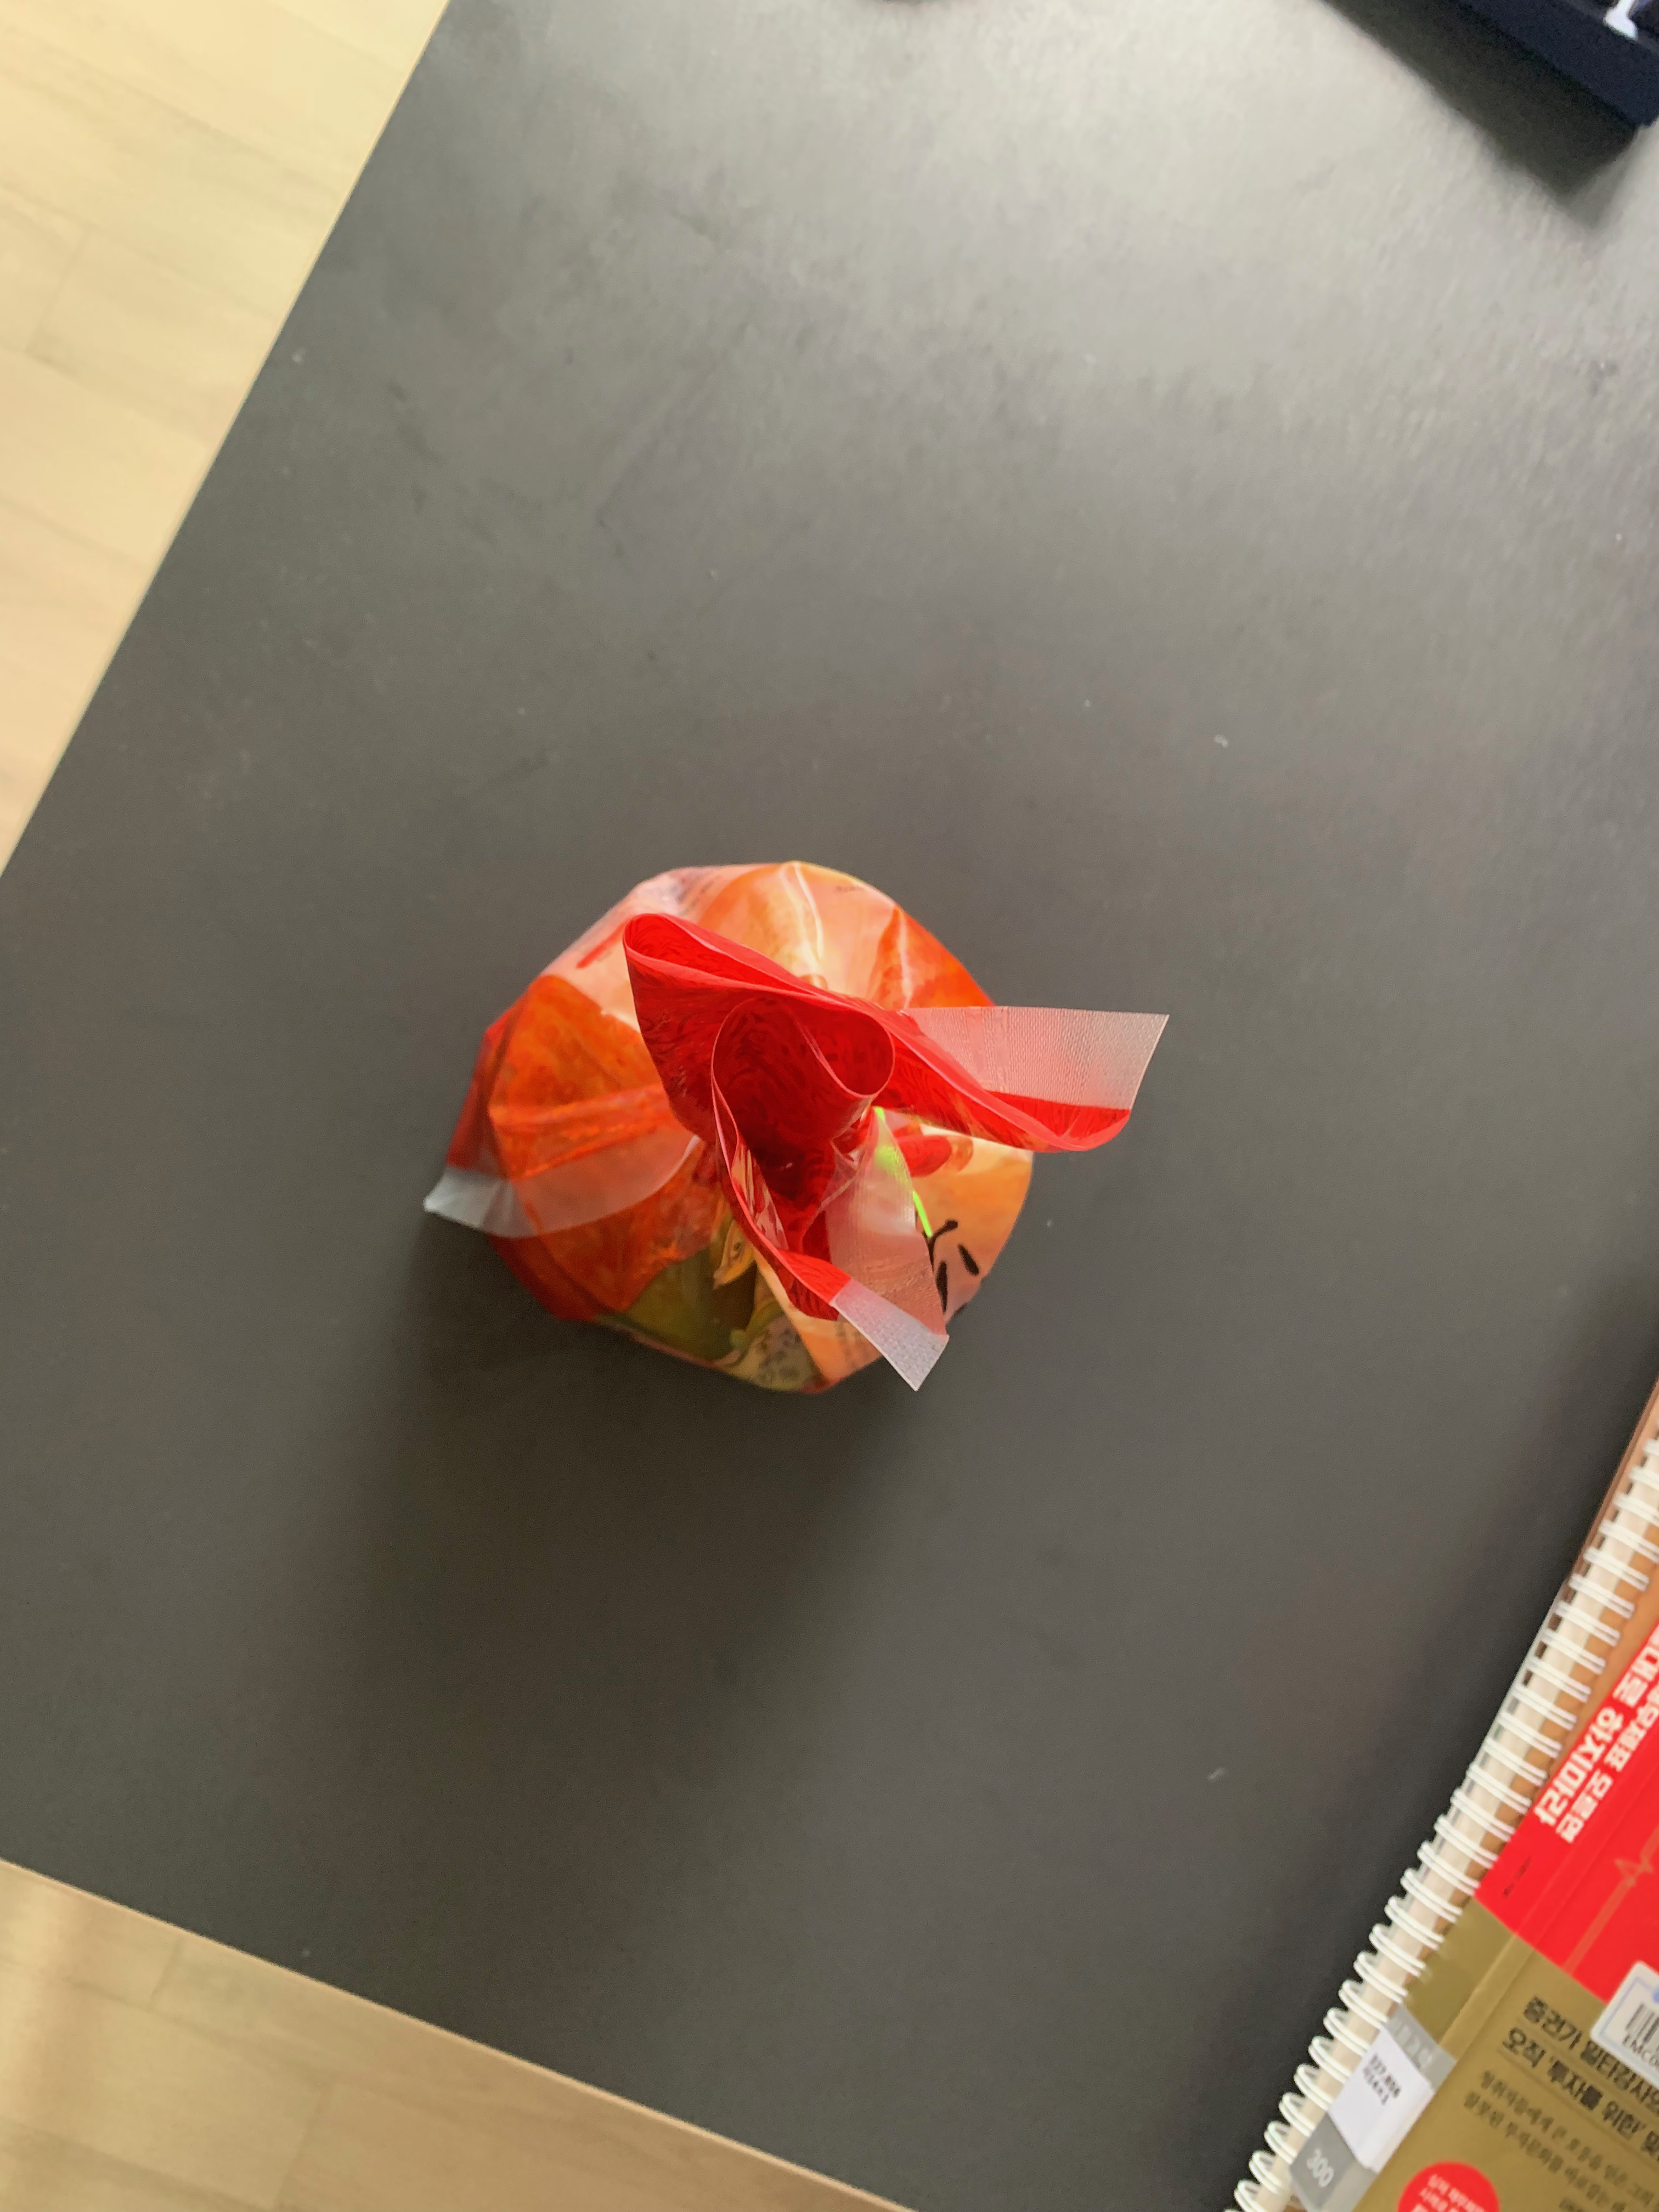kimchi: (451, 859, 1131, 1392)
